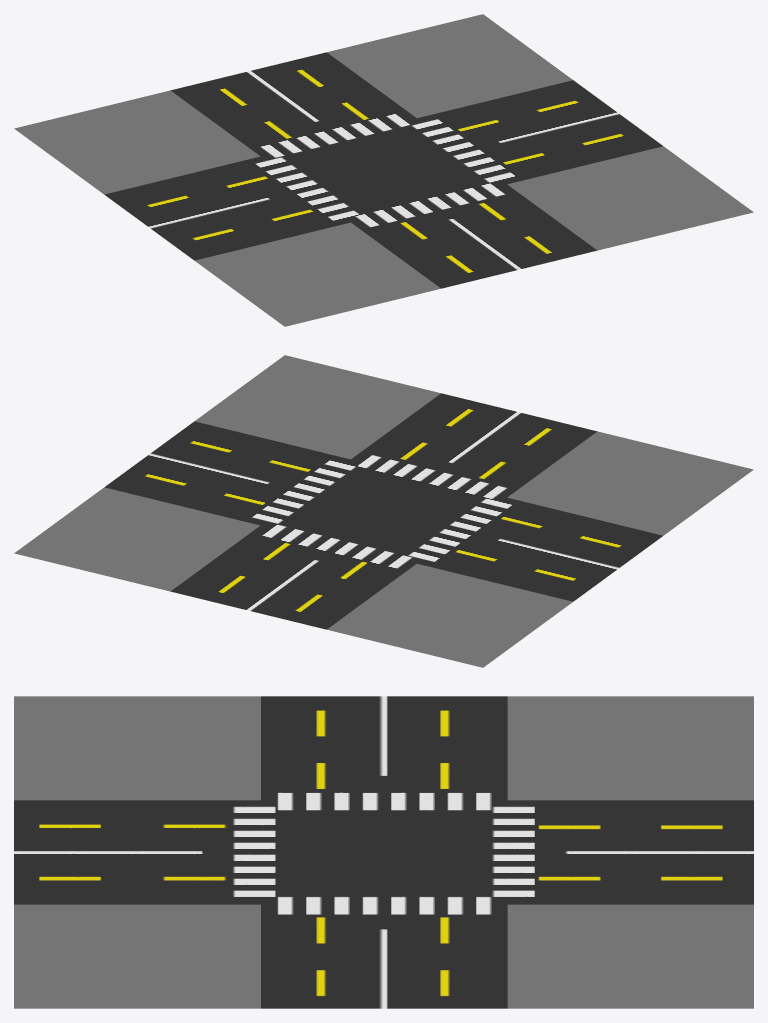
The model's file is SueloCruz.fbx.
The picture shows the model from 3 angles, top to bottom: view 1: azimuth 30°, elevation 25°; view 2: azimuth 150°, elevation 25°; view 3: azimuth 270°, elevation 25°; orthographic projection. The views are drawn at different scales.
Visible parts, largest first — view 1: polySurface9; view 2: polySurface9; view 3: polySurface9.
Boxes of the visible parts, <box> form: polySurface9: <box>14,14,753,326</box>; polySurface9: <box>14,355,753,667</box>; polySurface9: <box>14,696,753,1008</box>.
Bounding box in the file's own units: 56.13 × 0 × 56.14.
1 material, 1 textured.
